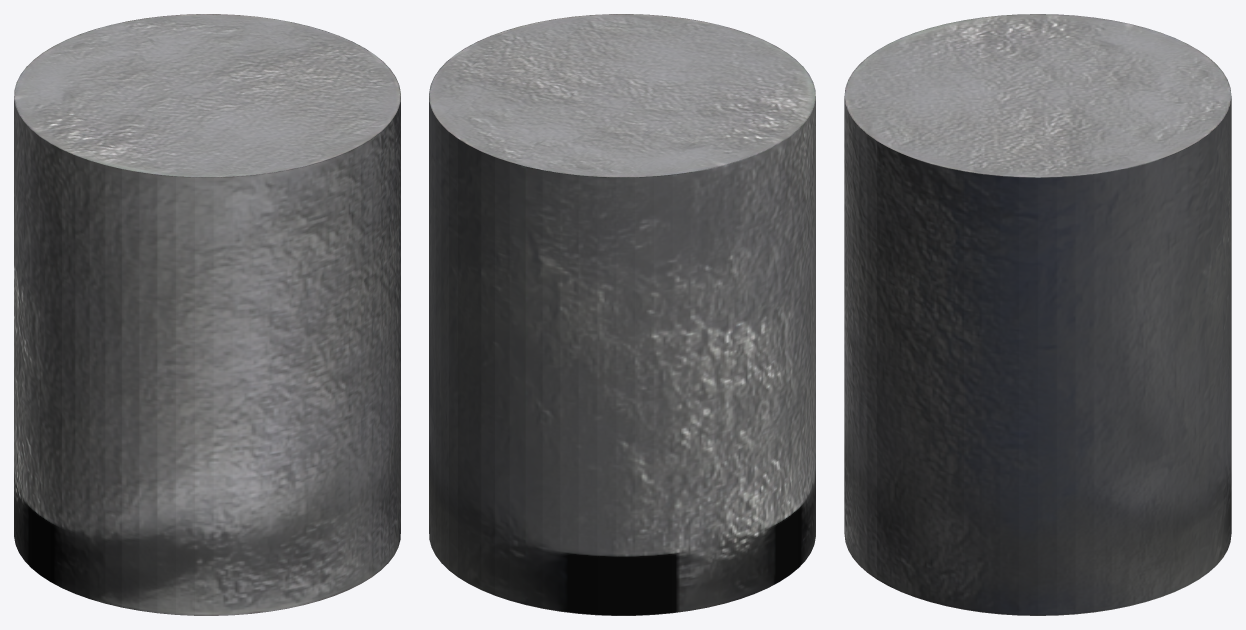
Rendered from cylinder-item.dae.
The picture shows the model from 3 angles, left to right: view 1: azimuth 30°, elevation 25°; view 2: azimuth 150°, elevation 25°; view 3: azimuth 270°, elevation 25°; orthographic projection.
Parts seen in each view (by area): view 1: Cylinder.001; view 2: Cylinder.001; view 3: Cylinder.001.
Boxes of the visible parts, x1=… form: Cylinder.001: x1=14, y1=14, x2=400, y2=615; Cylinder.001: x1=429, y1=14, x2=815, y2=615; Cylinder.001: x1=844, y1=14, x2=1231, y2=615.
Size of the model in its own units: 0.109 by 0.109 by 0.1362.
Materials: 1 (1 with a texture image).
